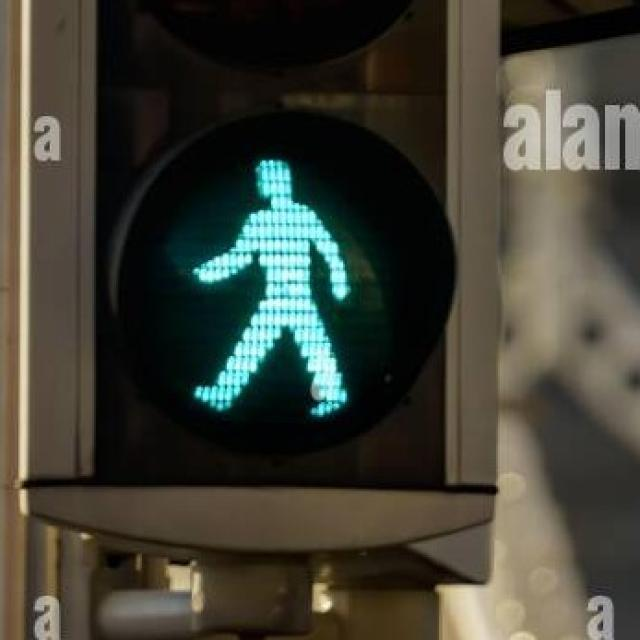green_light: (182, 140, 366, 432)
